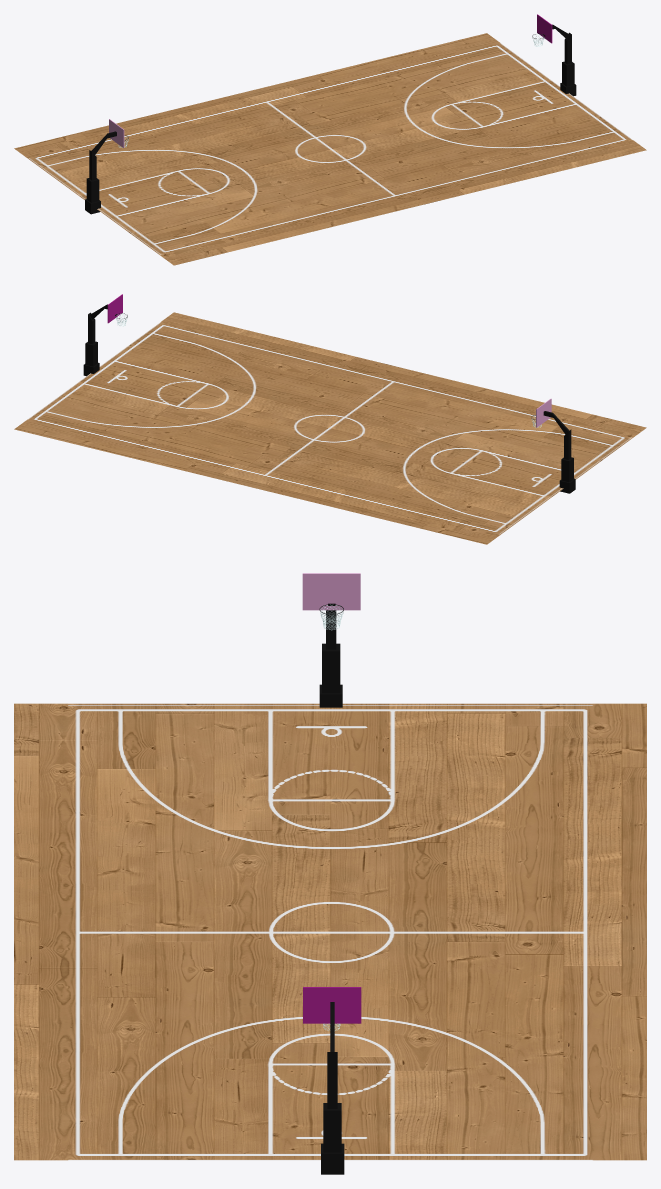
The model's file is cancha.obj.
3 renders of one model, top to bottom at view 1: azimuth 30°, elevation 25°; view 2: azimuth 150°, elevation 25°; view 3: azimuth 270°, elevation 25°, orthographic. The views are drawn at different scales.
Parts seen in each view (by area): view 1: Court_Plane, Stand_Cube_001, Stand_001_Cube_006; view 2: Court_Plane, Stand_Cube_001, Stand_001_Cube_006; view 3: Court_Plane, Stand_001_Cube_006, Board_Cube, Board_001_Cube_005, Stand_Cube_001.
Boxes of the visible parts, x1,y1,x2,y2 form: Court_Plane: [14, 33, 646, 265]; Stand_Cube_001: [85, 131, 116, 214]; Stand_001_Cube_006: [552, 24, 576, 96]; Court_Plane: [14, 312, 646, 544]; Stand_Cube_001: [543, 411, 575, 493]; Stand_001_Cube_006: [83, 304, 107, 376]; Court_Plane: [14, 703, 646, 1160]; Stand_001_Cube_006: [321, 1002, 344, 1174]; Board_Cube: [302, 573, 360, 610]; Board_001_Cube_005: [303, 987, 361, 1023]; Stand_Cube_001: [319, 610, 342, 707].
Size of the model in its own units: 85.5 by 13.58 by 48.77.
5 materials, 1 textured.
